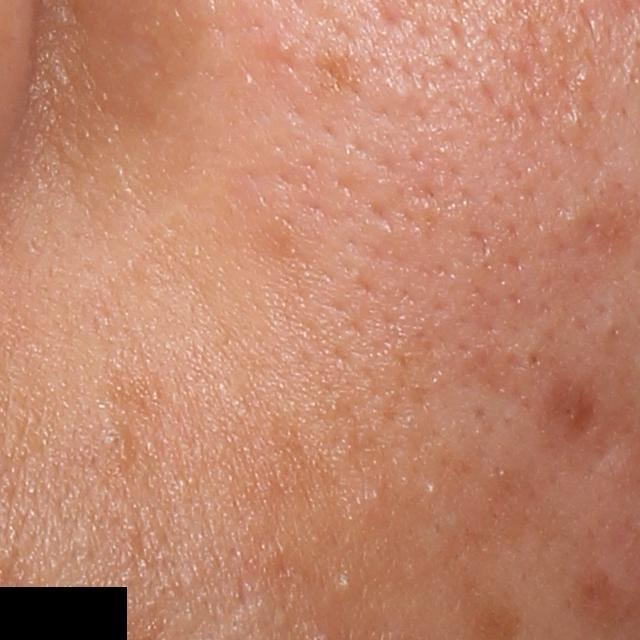comedo: (323, 565, 357, 600), (523, 347, 549, 375)
